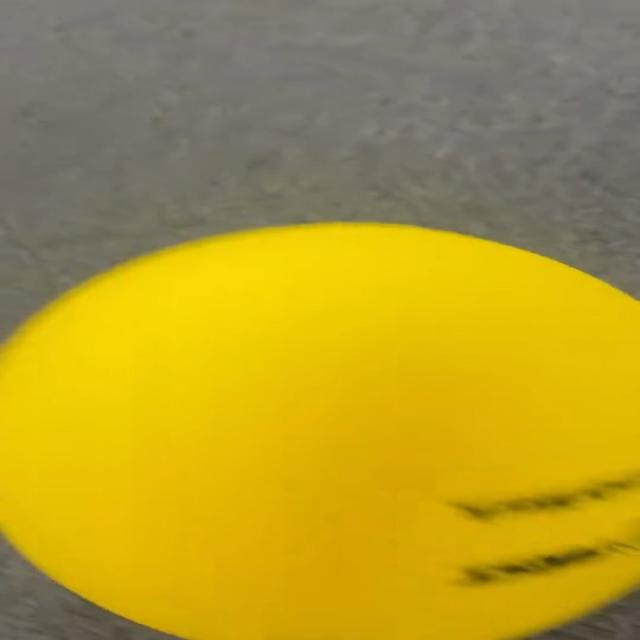Fuels: (3, 223, 639, 637)
